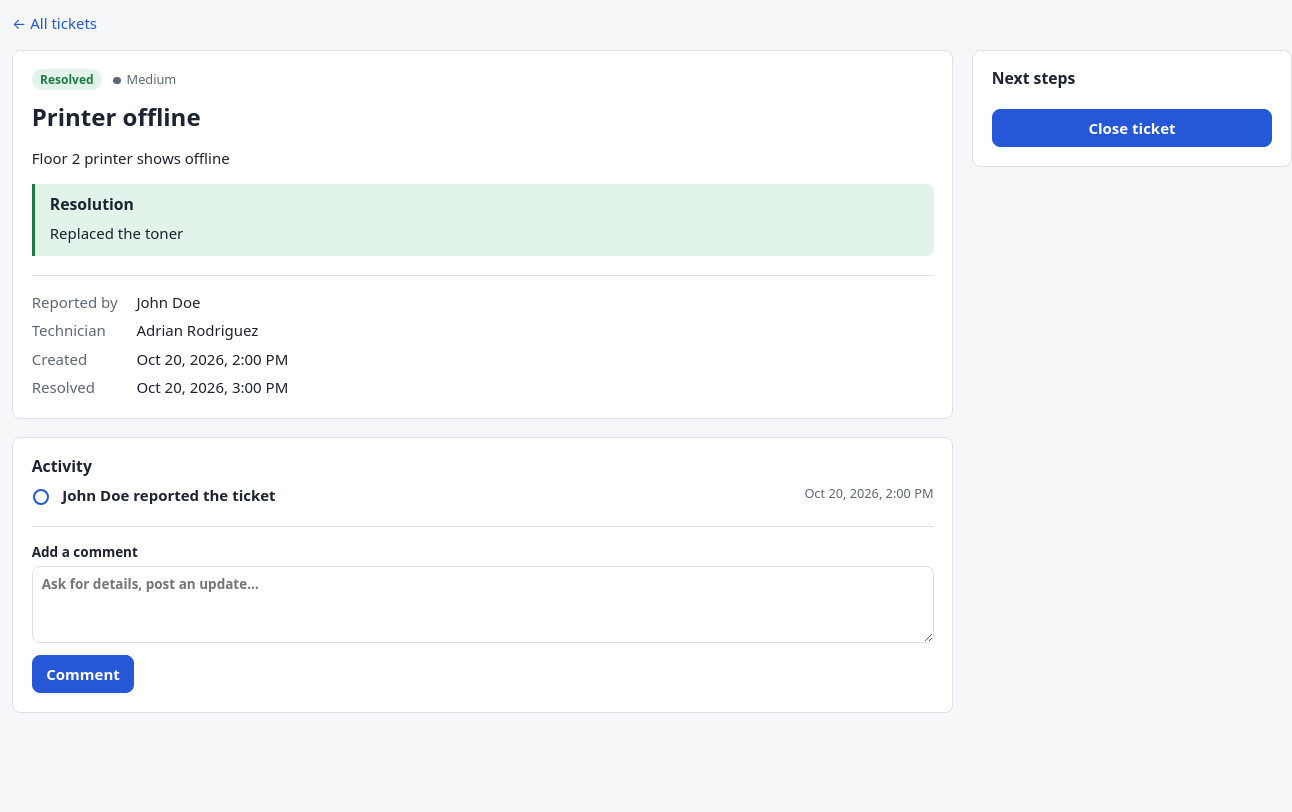
Test: TicketDetailPage › shows the API's reason when it refuses a step, and keeps the ticket as it was
The image size is (1292, 812).
Check: the text "Replaced the toner" is shown, box [50, 223, 183, 243]
Click the button "Close ticket". click: (1132, 128)
box: [992, 109, 1272, 147]
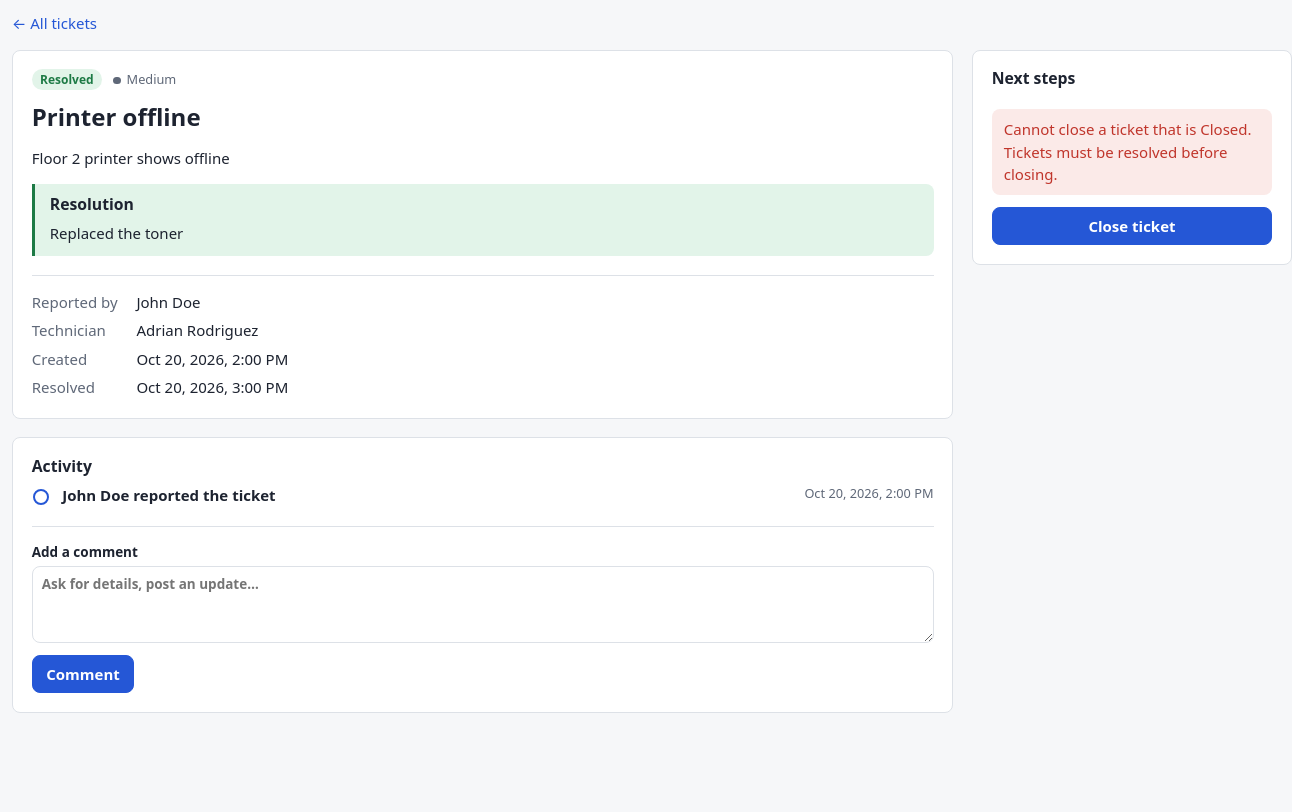
Check: the text "Resolved" next to "Medium" is shown, box [40, 71, 94, 88]
Check: the message shows "Cannot close a ticket that is Closed", box [1004, 119, 1252, 184]
